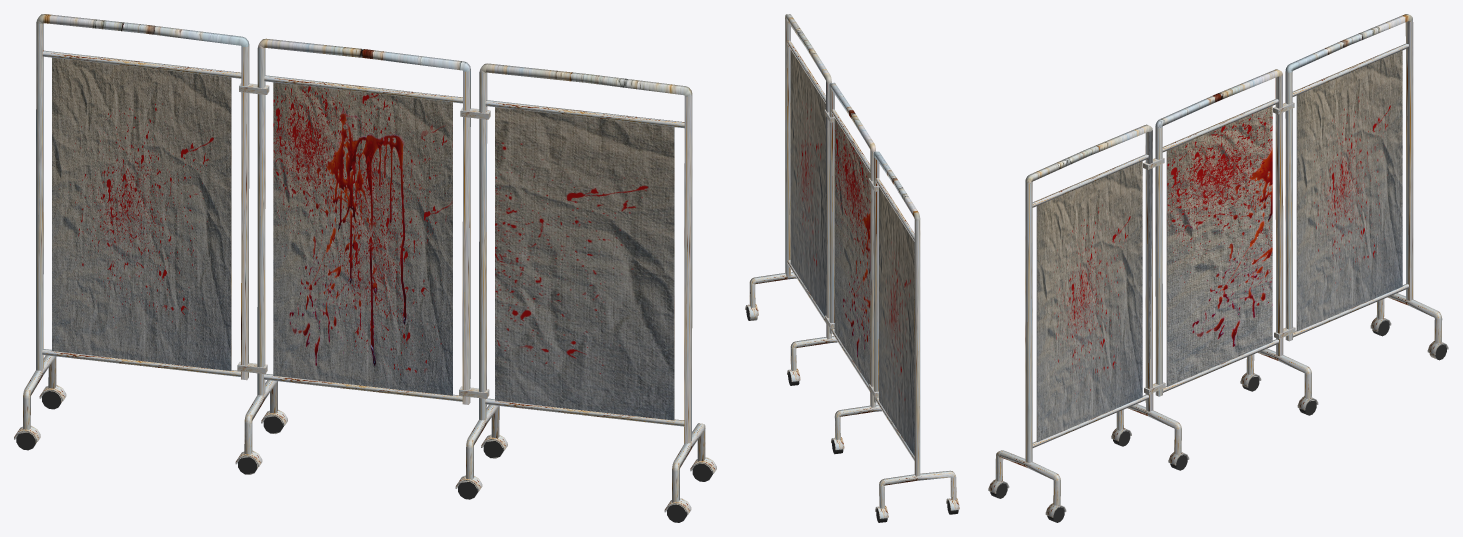
File: SHIRMA(OPERAC).fbx
3 views of the same model, side by side, from view 1: azimuth 30°, elevation 25°; view 2: azimuth 150°, elevation 25°; view 3: azimuth 270°, elevation 25° (orthographic). The views are drawn at different scales.
Visible parts, largest first — view 1: SHIRMA(OPERACIONAYA); view 2: SHIRMA(OPERACIONAYA); view 3: SHIRMA(OPERACIONAYA).
Part boxes in pixels (x1,y1,x2,y2): SHIRMA(OPERACIONAYA): (14, 14, 716, 522); SHIRMA(OPERACIONAYA): (745, 14, 959, 522); SHIRMA(OPERACIONAYA): (988, 14, 1448, 522).
Size of the model in its own units: 856 by 680 by 851.
Materials: 4 (3 with a texture image).
